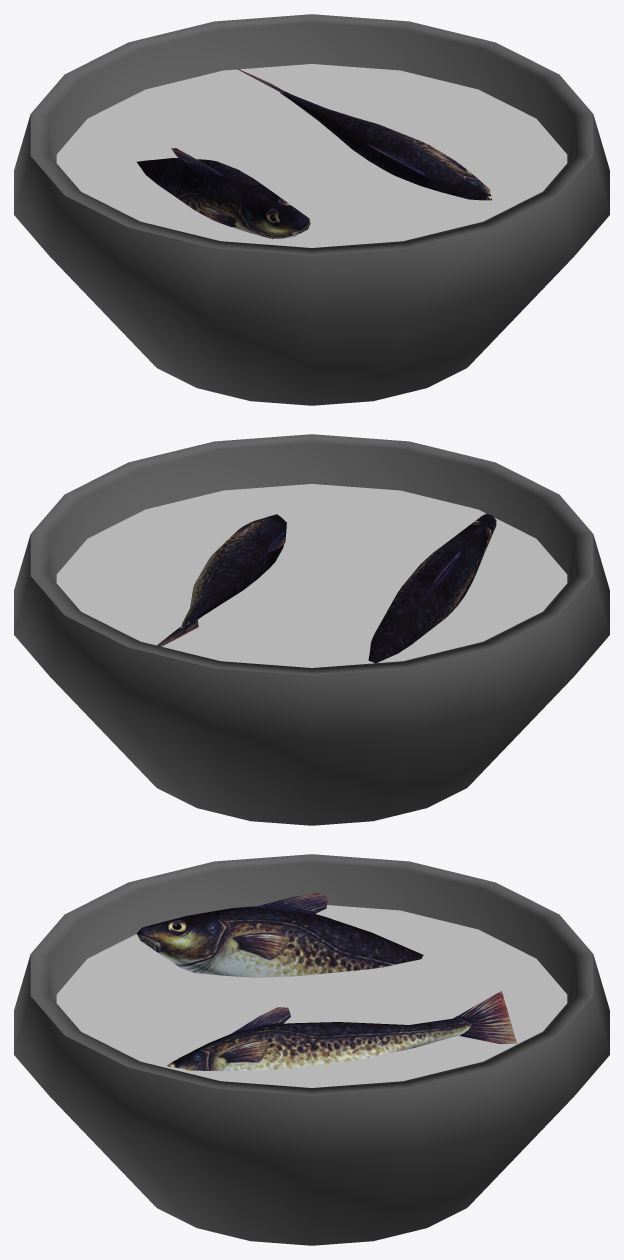
The model's file is fish.fbx.
3 views of the same model, one above another, from view 1: azimuth 30°, elevation 25°; view 2: azimuth 150°, elevation 25°; view 3: azimuth 270°, elevation 25° (orthographic).
Visible parts, largest first — view 1: venky1:pCylinder13, venky1:pCylinder14, pCube1, pCube2; view 2: venky1:pCylinder13, venky1:pCylinder14, pCube1, pCube2; view 3: venky1:pCylinder13, venky1:pCylinder14, pCube1, pCube2.
Boxes of the visible parts, left/top/right/bottom form: venky1:pCylinder13: left=14, top=14, right=609, bottom=405; venky1:pCylinder14: left=56, top=64, right=567, bottom=247; pCube1: left=136, top=148, right=310, bottom=239; pCube2: left=235, top=68, right=491, bottom=200; venky1:pCylinder13: left=14, top=434, right=609, bottom=825; venky1:pCylinder14: left=56, top=484, right=567, bottom=667; pCube1: left=368, top=513, right=496, bottom=663; pCube2: left=157, top=514, right=286, bottom=646; venky1:pCylinder13: left=14, top=854, right=609, bottom=1245; venky1:pCylinder14: left=56, top=905, right=567, bottom=1087; pCube1: left=136, top=892, right=423, bottom=977; pCube2: left=167, top=991, right=516, bottom=1071.
Size of the model in its own units: 46.99 by 18.19 by 46.27.
